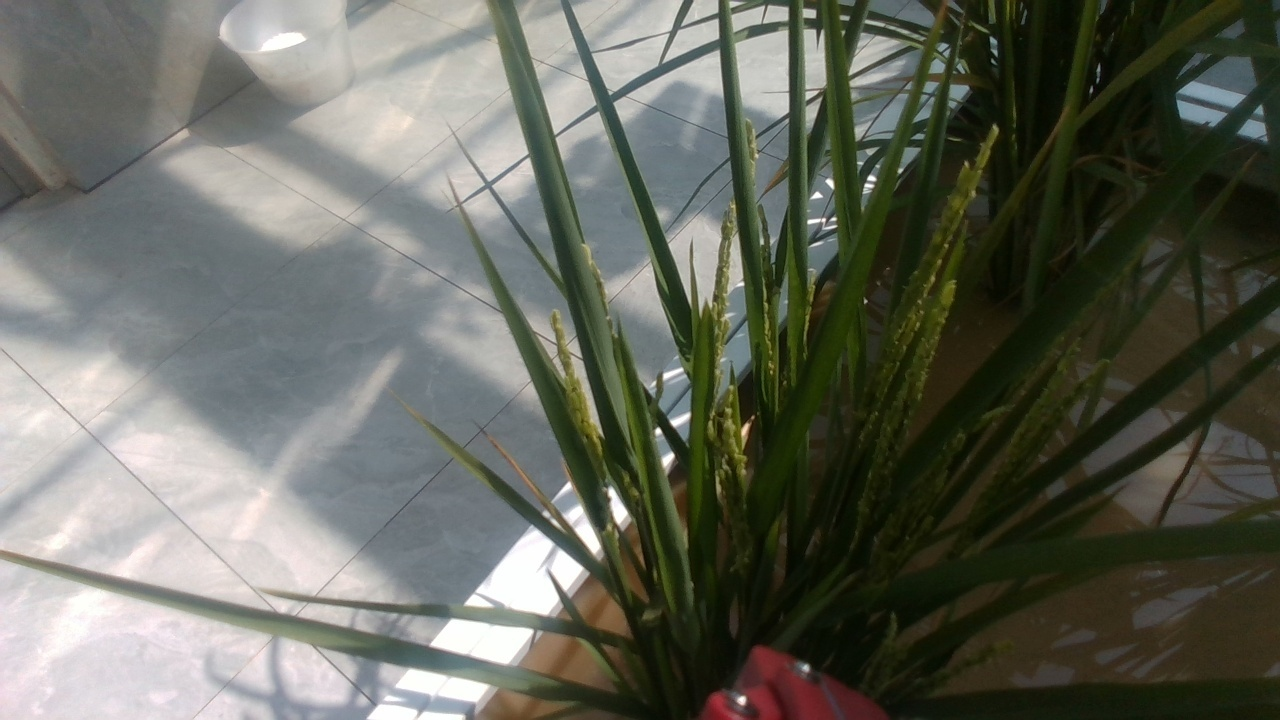panicle: (987, 347, 1109, 477), (905, 115, 1001, 271), (895, 290, 969, 403), (706, 384, 744, 499), (702, 203, 737, 322), (543, 308, 574, 383)
